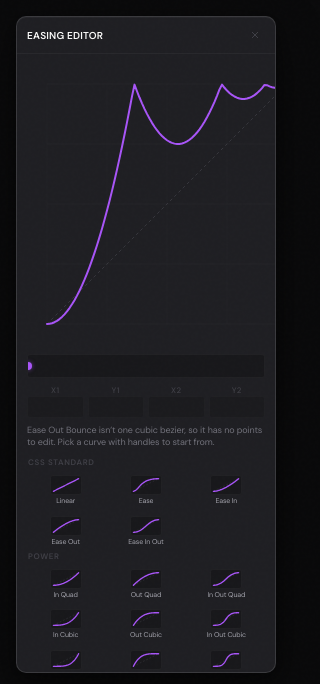
Test: EasingEditor › leaves the fields empty and disabled, saying why, for a curve no bezier draws
Expected: the number field with test id "easing-input-x1" is empty, x1=27 y1=396 x2=84 y2=418
Expected: the number field with test id "easing-input-y1" is empty, x1=88 y1=396 x2=144 y2=418
# Picking a curve that has points fills them in
Click the button with test id "easing-preset-in-cubic": (66, 624) x1=27 y1=605 x2=104 y2=643
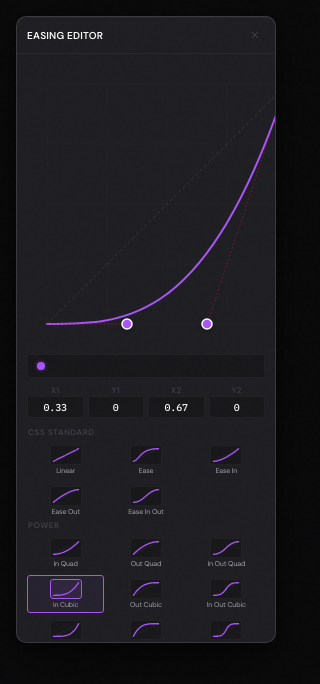
Expected: the number field with test id "easing-input-x2" is enabled, x1=148 y1=396 x2=204 y2=418
Expected: the text with test id "easing-no-points" is gone
